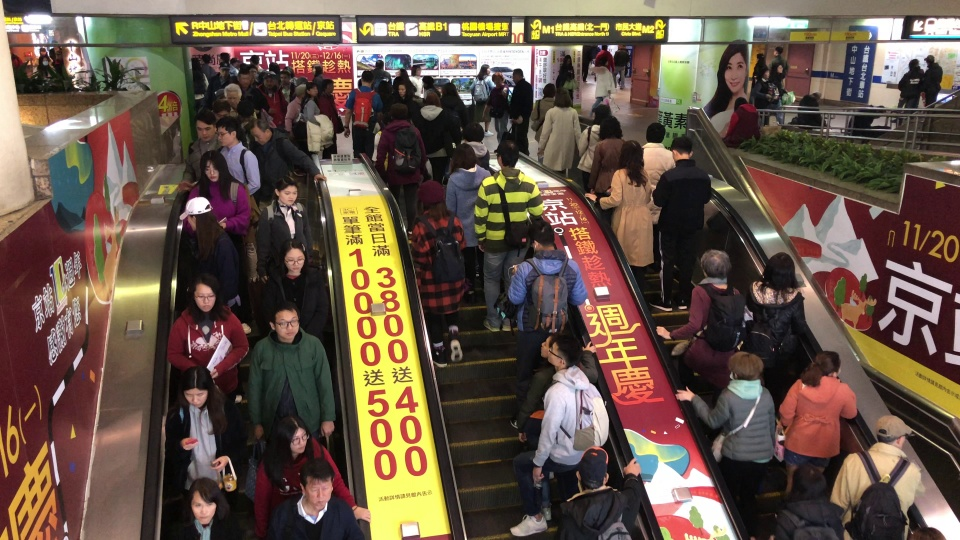person_head: (297, 457, 334, 512), (188, 478, 223, 524), (789, 464, 828, 501), (276, 415, 310, 454), (576, 451, 610, 490), (180, 366, 211, 407), (268, 300, 300, 338), (727, 350, 764, 382), (190, 273, 219, 312), (547, 336, 580, 368), (763, 251, 796, 283), (699, 248, 732, 279), (875, 414, 906, 447), (186, 196, 213, 232), (198, 149, 227, 182), (279, 238, 306, 273), (416, 180, 445, 210), (529, 220, 556, 251), (213, 116, 237, 148), (193, 108, 216, 140), (275, 175, 298, 206), (815, 350, 841, 376), (495, 140, 520, 167), (451, 142, 477, 167), (619, 140, 643, 167), (599, 115, 623, 139), (670, 135, 693, 160), (248, 119, 270, 144), (540, 331, 559, 359), (462, 122, 484, 143), (645, 121, 665, 143), (236, 100, 255, 122), (553, 86, 572, 108), (211, 100, 231, 120), (223, 83, 241, 103), (389, 102, 409, 120), (591, 105, 608, 123), (441, 82, 458, 97), (425, 91, 441, 106), (236, 70, 250, 87), (360, 70, 374, 87), (733, 96, 748, 110), (397, 80, 409, 97), (542, 82, 556, 96), (217, 62, 230, 76), (262, 74, 276, 87), (279, 69, 291, 84), (322, 78, 334, 93), (511, 67, 523, 82), (491, 71, 504, 84), (305, 82, 317, 96), (396, 67, 409, 79), (771, 62, 783, 74), (480, 63, 491, 76), (295, 84, 305, 98), (269, 61, 280, 73), (311, 62, 322, 74), (759, 67, 770, 79), (38, 55, 49, 66), (201, 53, 212, 64), (410, 65, 421, 76), (191, 57, 201, 69), (249, 65, 258, 78), (219, 52, 230, 62), (249, 55, 259, 65), (773, 45, 783, 55), (375, 58, 384, 68), (563, 54, 572, 64), (600, 55, 608, 66), (812, 90, 820, 100), (909, 59, 917, 69), (926, 54, 934, 63), (878, 105, 885, 115), (39, 47, 47, 55), (756, 52, 763, 60), (601, 43, 608, 50)
person_vbox: (508, 335, 610, 538), (675, 349, 775, 540), (655, 248, 745, 443), (507, 220, 588, 429), (516, 331, 599, 521), (253, 413, 371, 540), (774, 350, 859, 517), (473, 140, 544, 334), (181, 149, 253, 334), (185, 195, 247, 404), (741, 250, 806, 443), (249, 299, 337, 439), (829, 413, 925, 540), (647, 135, 711, 312), (166, 272, 250, 403), (166, 365, 249, 495), (410, 179, 467, 368), (584, 140, 654, 289), (266, 457, 365, 539), (555, 451, 642, 540), (444, 142, 492, 294), (247, 119, 327, 210), (375, 102, 427, 241), (260, 238, 328, 338), (177, 117, 261, 196), (255, 175, 313, 284), (640, 120, 676, 272), (774, 464, 841, 540), (171, 478, 242, 539), (536, 86, 581, 175), (342, 69, 383, 159), (175, 107, 216, 192), (440, 81, 469, 186), (416, 91, 449, 182), (586, 115, 624, 194), (576, 104, 608, 193), (508, 67, 534, 157), (720, 96, 760, 149), (530, 82, 556, 162), (485, 71, 510, 154), (469, 63, 496, 138), (211, 83, 257, 120), (257, 74, 287, 126), (588, 55, 613, 117), (318, 78, 338, 153), (897, 59, 922, 119), (753, 66, 778, 125), (846, 104, 887, 137), (461, 122, 491, 167), (283, 84, 306, 135), (797, 90, 827, 129), (923, 54, 942, 108), (298, 82, 320, 126), (206, 62, 230, 101), (770, 63, 785, 123), (555, 53, 575, 96), (593, 42, 615, 80), (749, 51, 764, 104), (191, 57, 208, 101), (390, 81, 415, 109), (612, 45, 628, 88), (371, 61, 392, 91), (32, 55, 55, 82), (768, 45, 789, 74), (278, 70, 295, 101), (409, 64, 423, 96), (34, 46, 53, 68), (582, 45, 592, 81), (200, 53, 215, 76), (311, 61, 322, 85), (10, 51, 23, 69)
